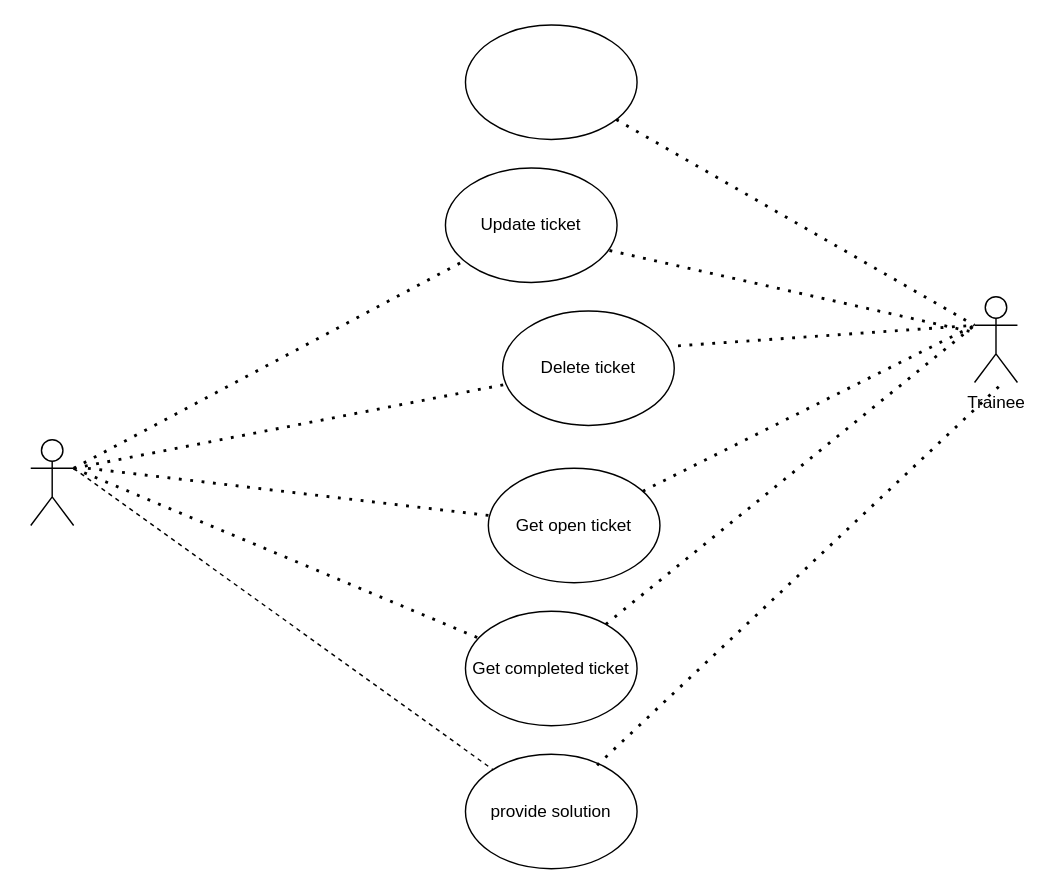
Some shapes in this 1050 by 894 pixel diagram are drawn without their labels. Each missing label, with the box of its shape:
Create ticket: (464, 24, 637, 139)
Trainer: (29, 438, 74, 526)
